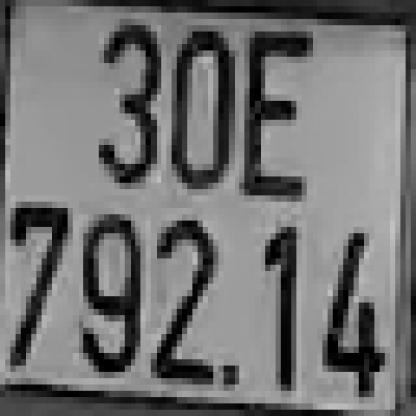0: (172, 38, 228, 189)
1: (255, 221, 312, 384)
2: (156, 214, 213, 378)
3: (99, 25, 161, 183)
4: (317, 227, 380, 391)
7: (10, 208, 68, 359)
9: (83, 214, 140, 366)
E: (244, 38, 302, 195)
